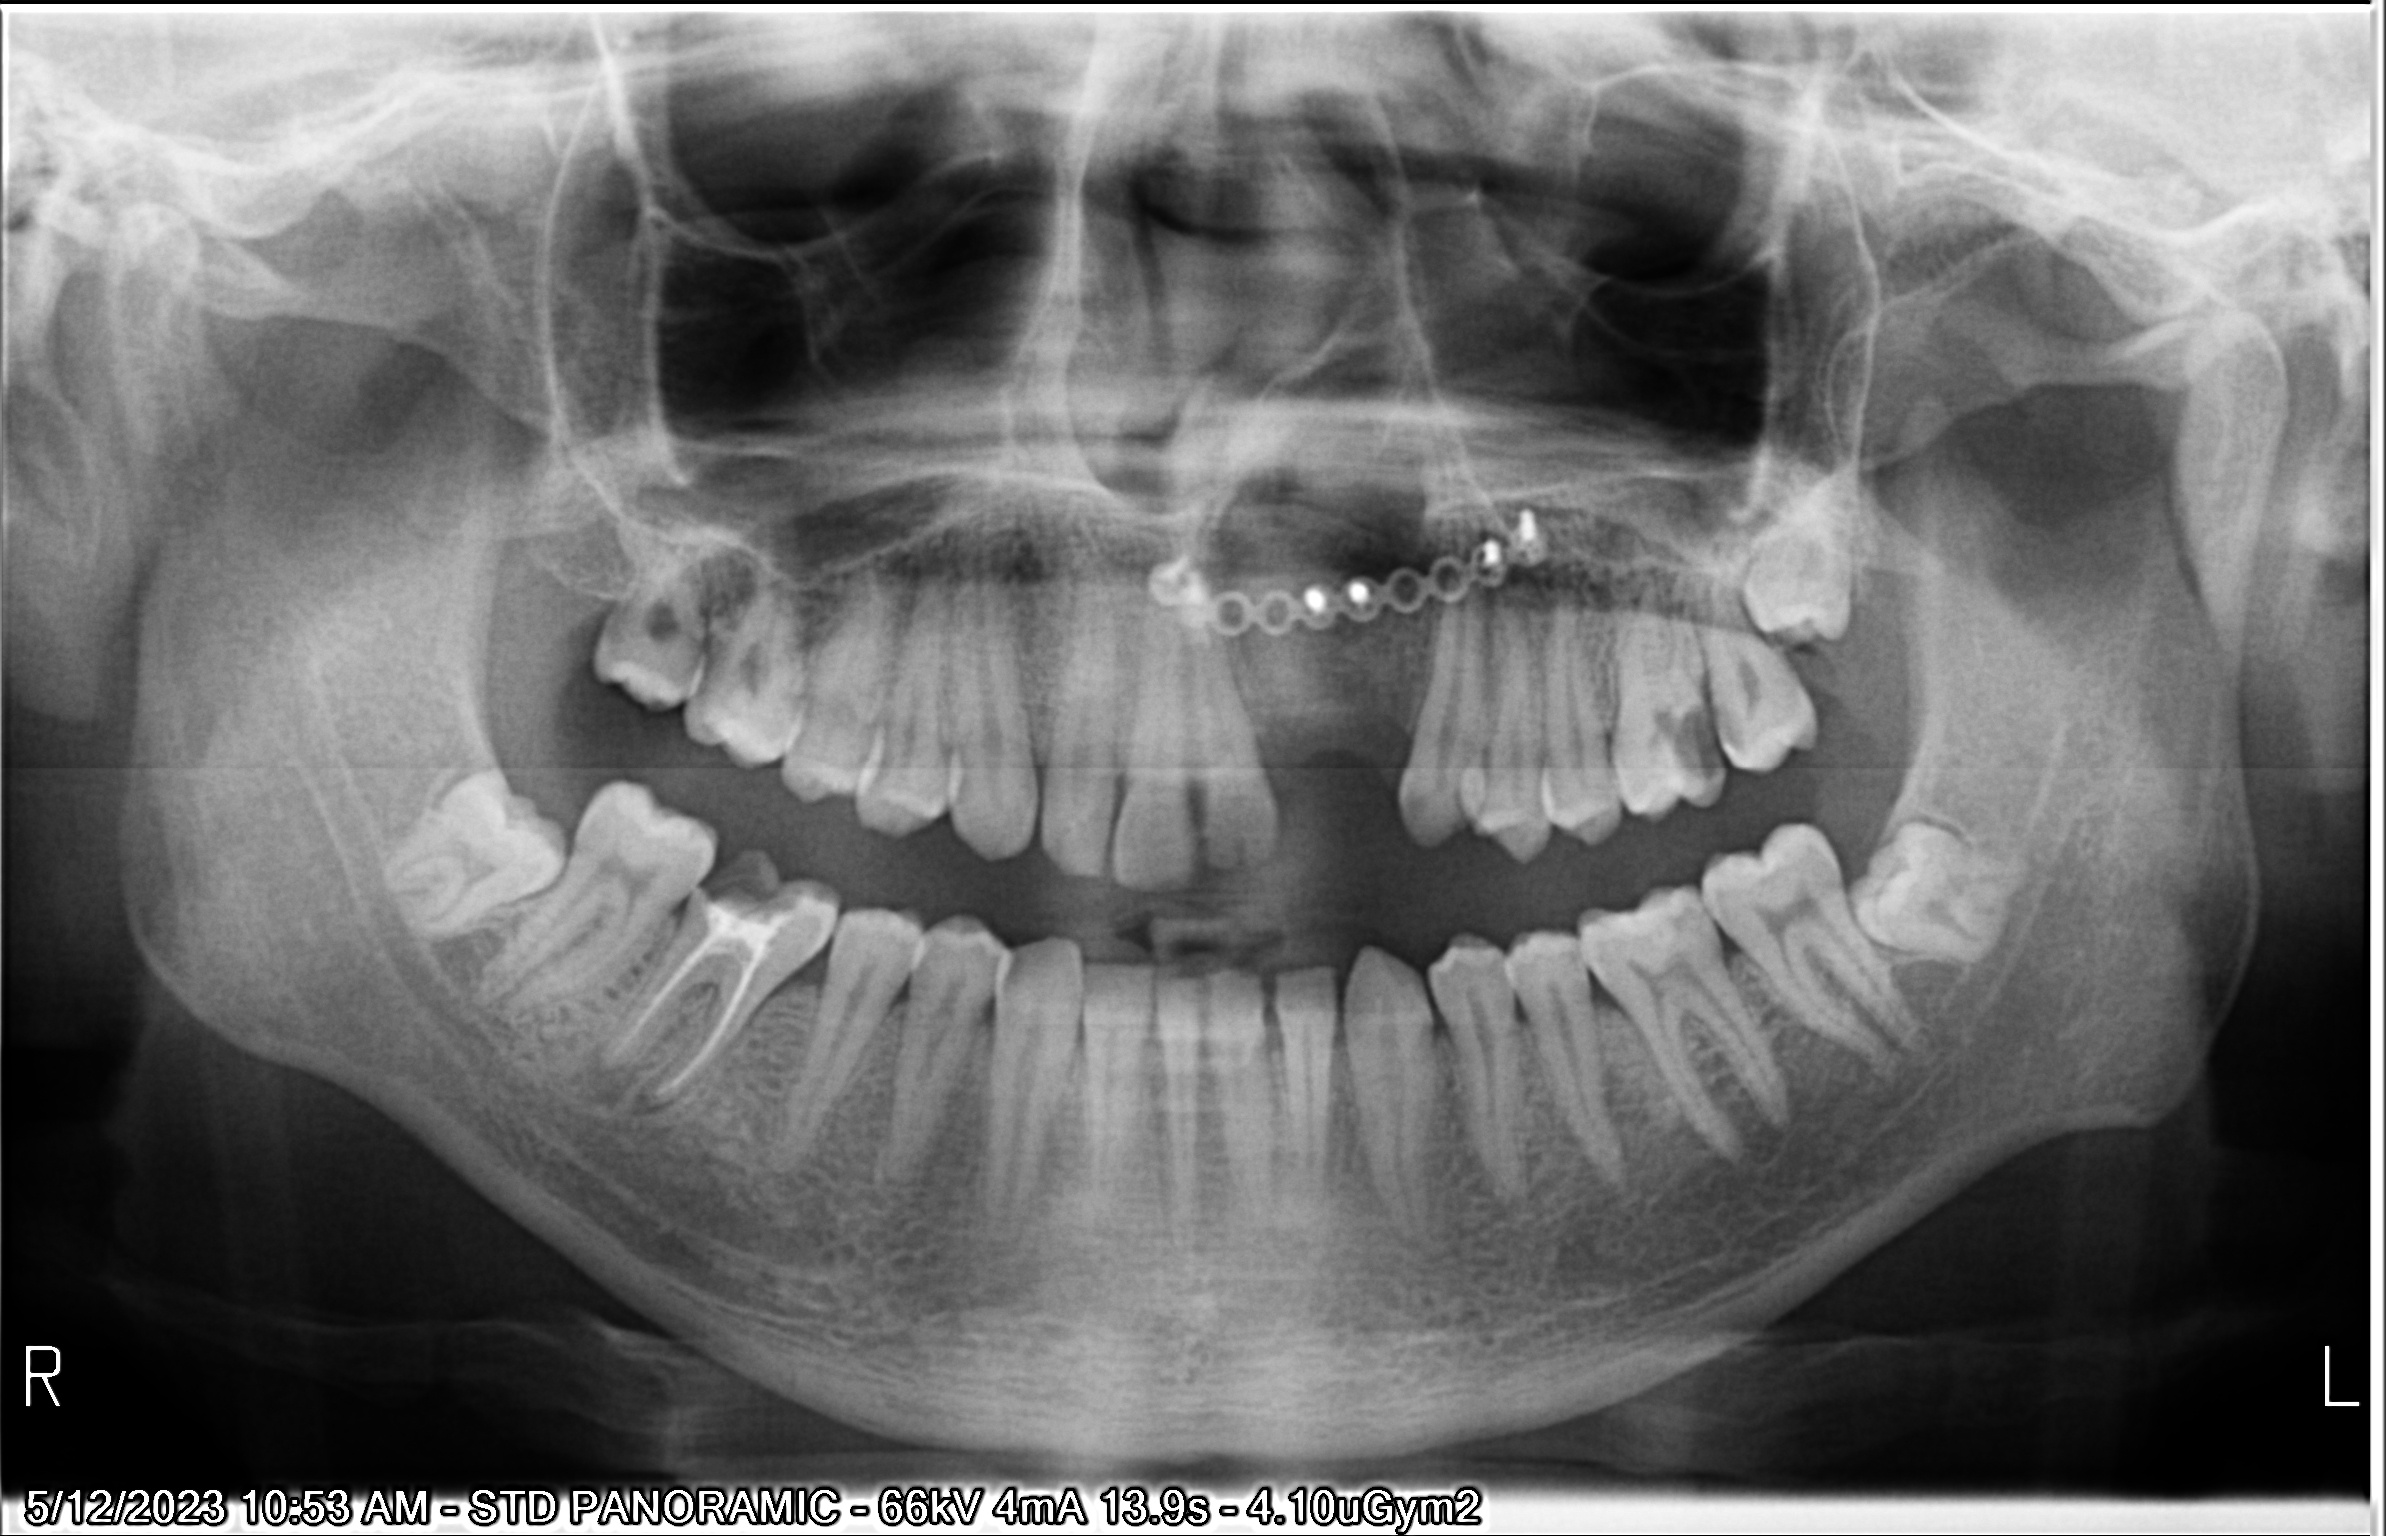API: (558, 1054, 706, 1150)
CAR: (1621, 706, 1739, 811), (676, 833, 788, 934)
END: (586, 903, 788, 1122)
IMT: (1833, 812, 2071, 1012), (383, 734, 586, 939), (1730, 484, 1936, 642)
SRD: (1134, 510, 1619, 689)
